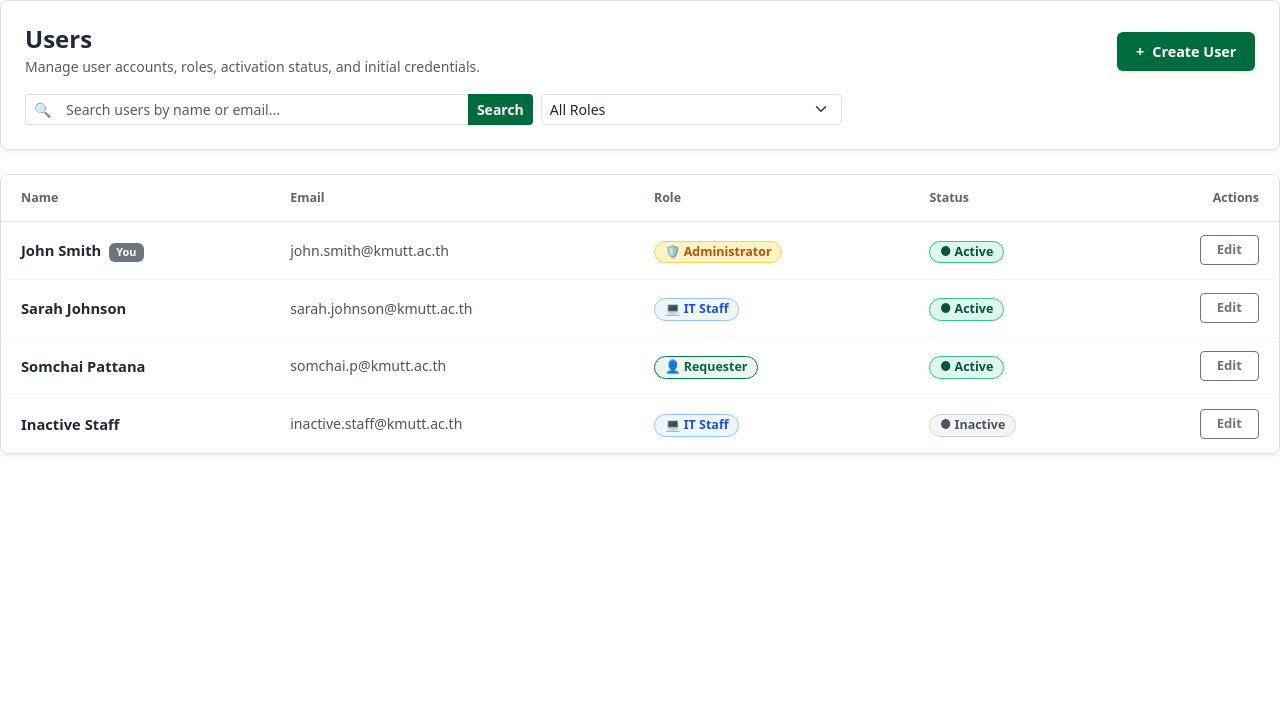
Scenario: UserManagement Component Tests (UI-07, UI-08, UI-09, Feature-12) › UI-09: Self-deactivation warning and disablement (AC-17, FR-38, FR-39) › disables Active toggle and displays safety warning when editing own account (AC-17, FR-38)
Note: Click Edit on John Smith (id: 1, current user)
Click the button with id "edit-user-btn-1" at (1229,250), box [1200,235,1259,265]
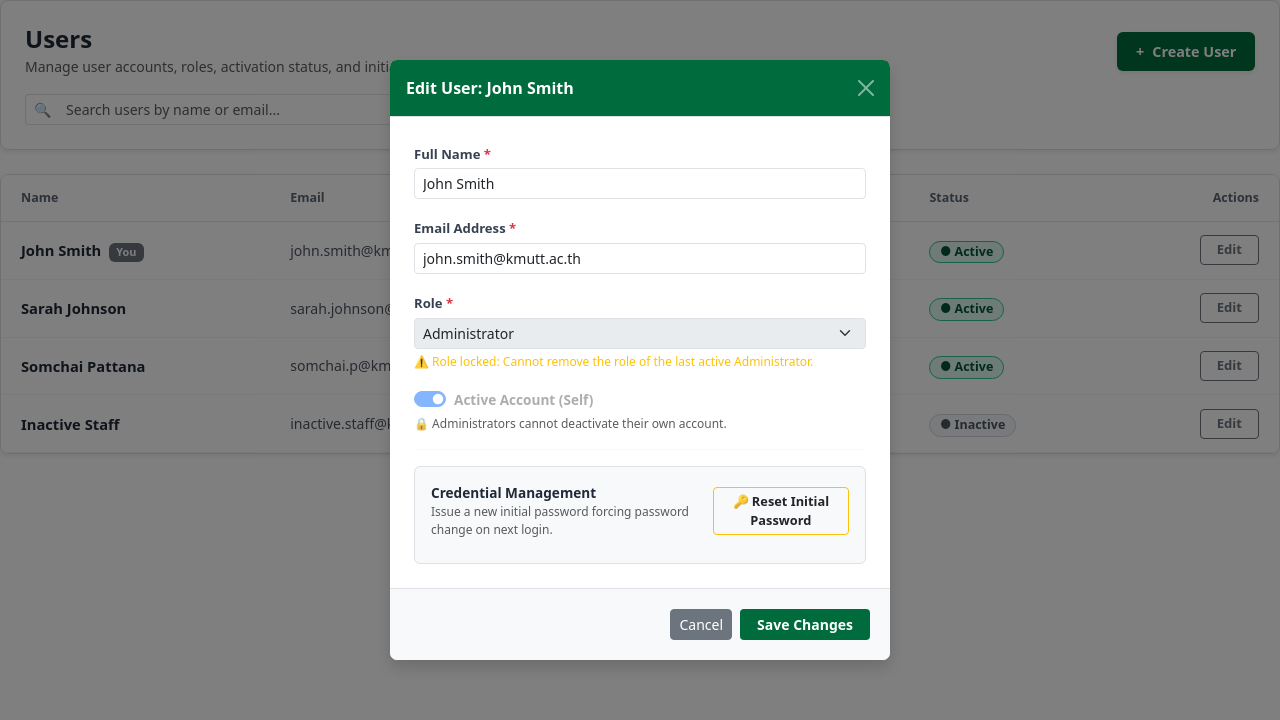
Check: the element with id "edit-user-modal" is shown
Check: the heading "Edit User: John Smith" is shown, box [406,76,574,100]
Check: the checkbox with id "edit-user-active" is disabled, box [414,391,446,407]
